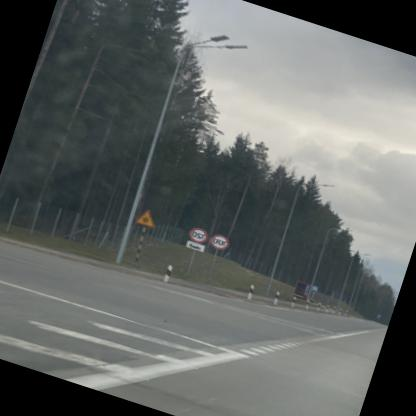speedlimit: (210, 232, 234, 251), (191, 226, 211, 244)
